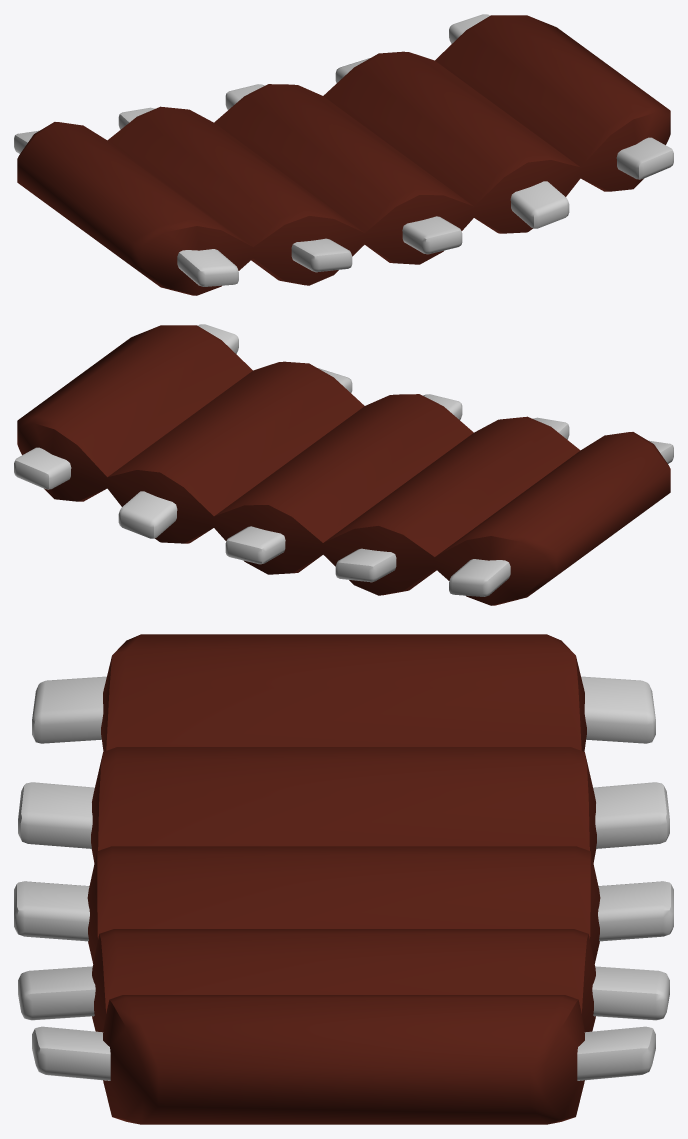
The model's file is ribs.obj.
The picture shows the model from 3 angles, top to bottom: view 1: azimuth 30°, elevation 25°; view 2: azimuth 150°, elevation 25°; view 3: azimuth 270°, elevation 25°; orthographic projection. The views are drawn at different scales.
Visible parts, largest first — view 1: ribs_Cylinder.049; view 2: ribs_Cylinder.049; view 3: ribs_Cylinder.049.
Boxes of the visible parts, x1,y1,x2,y2 form: ribs_Cylinder.049: (14, 14, 673, 295); ribs_Cylinder.049: (14, 324, 673, 605); ribs_Cylinder.049: (14, 634, 673, 1124).
Bounding box in the file's own units: 1.17 × 0.1959 × 0.7584.
